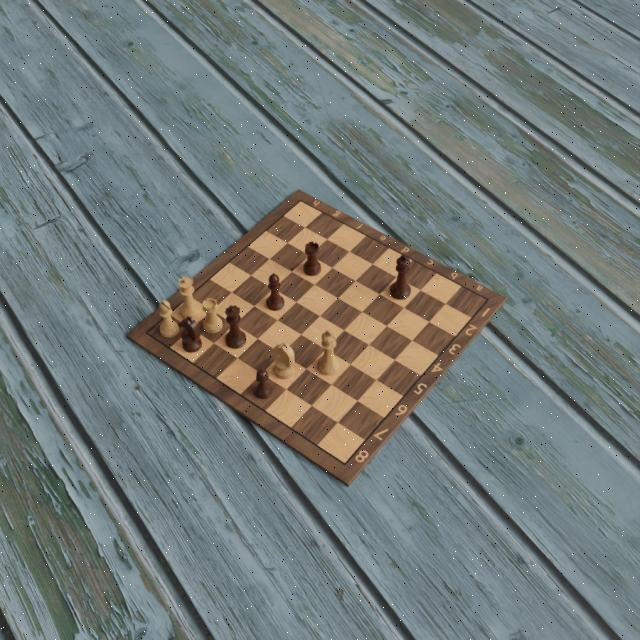black-bishop: (266, 272, 285, 311)
black-king: (388, 252, 411, 299)
black-knight: (177, 315, 203, 353)
black-pawn: (252, 368, 274, 400)
black-queen: (224, 304, 248, 348)
black-rook: (303, 241, 321, 277)
white-bishop: (158, 300, 179, 338)
white-king: (316, 329, 338, 374)
white-knight: (271, 341, 297, 379)
white-queen: (177, 275, 201, 320)
white-rook: (201, 295, 223, 336)
